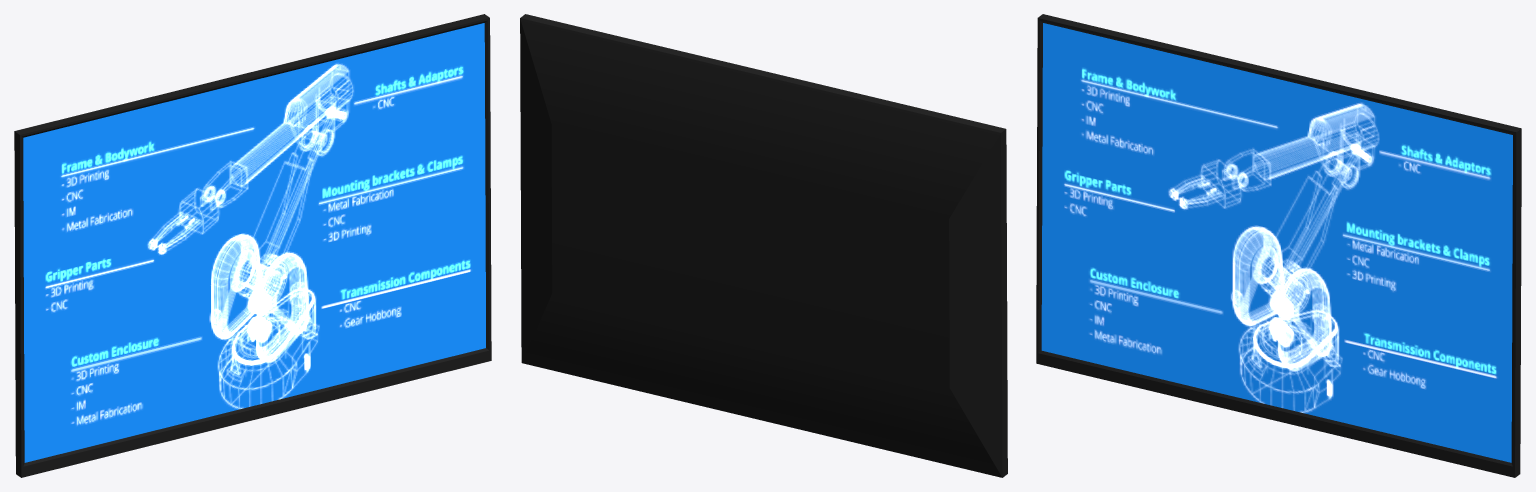
Rendered from DisplayScreenA.fbx.
3 renders of one model, left to right at view 1: azimuth 30°, elevation 25°; view 2: azimuth 150°, elevation 25°; view 3: azimuth 330°, elevation 25°, orthographic.
Visible parts, largest first — view 1: DisplayScreenA; view 2: DisplayScreenA; view 3: DisplayScreenA.
Boxes of the visible parts, <box> form: DisplayScreenA: <box>14,14,491,477</box>; DisplayScreenA: <box>520,14,1007,477</box>; DisplayScreenA: <box>1036,14,1521,477</box>.
Size of the model in its own units: 182 by 126 by 12.97.
